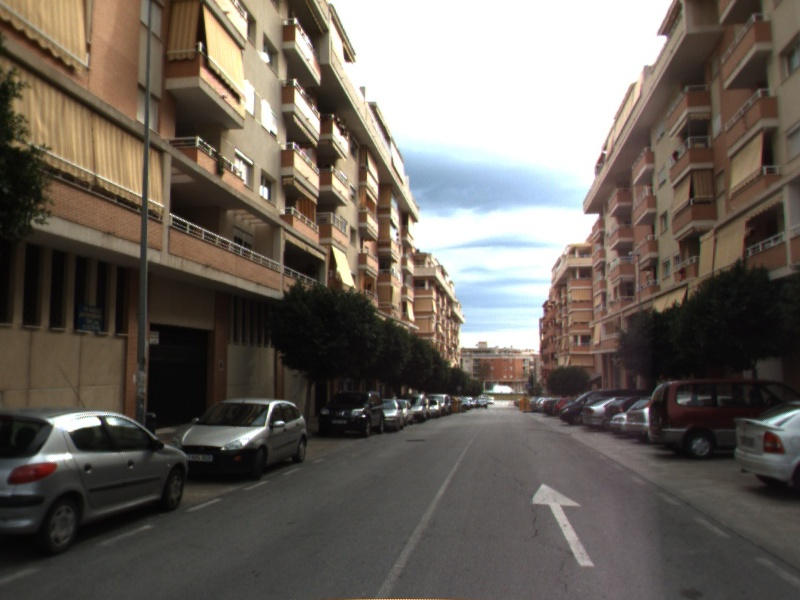STRAIGHT: (527, 481, 597, 568)
